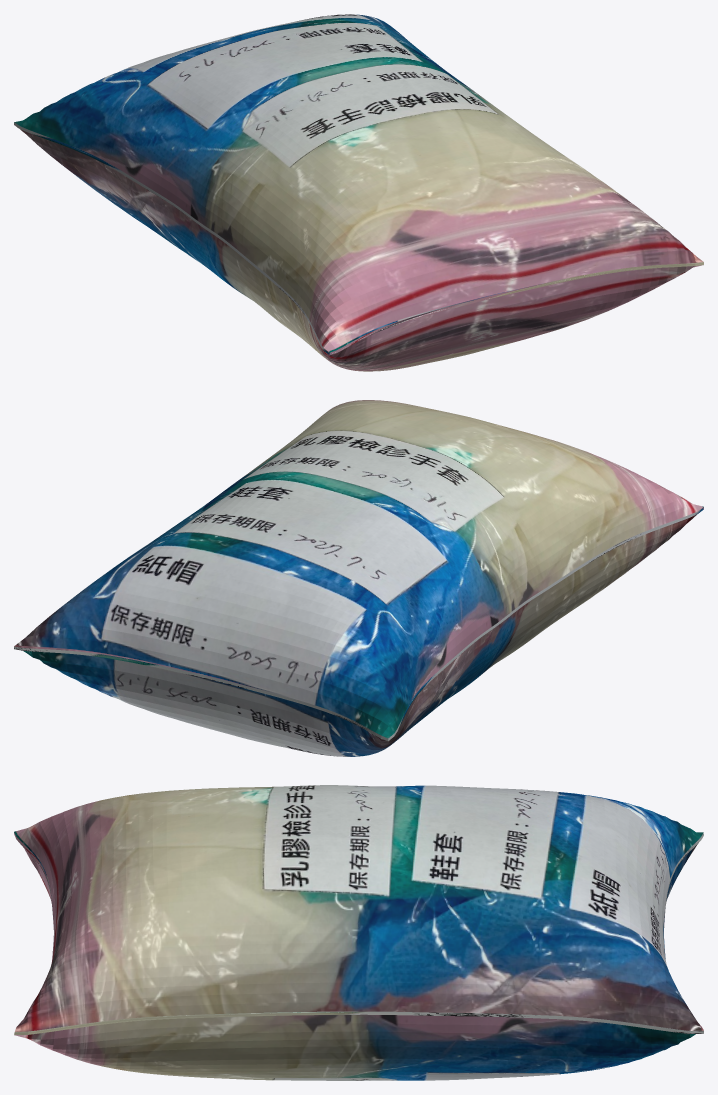
File: 夾鏈袋.fbx
3 views of the same model, one above another, from view 1: azimuth 30°, elevation 25°; view 2: azimuth 150°, elevation 25°; view 3: azimuth 270°, elevation 25° (orthographic). The views are drawn at different scales.
Parts seen in each view (by area): view 1: 立方體; view 2: 立方體; view 3: 立方體.
Part boxes in pixels (x1,y1,x2,y2): 立方體: (14,14,703,371); 立方體: (14,400,703,756); 立方體: (14,785,703,1080).
Size of the model in its own units: 12.95 by 7.21 by 18.93.
